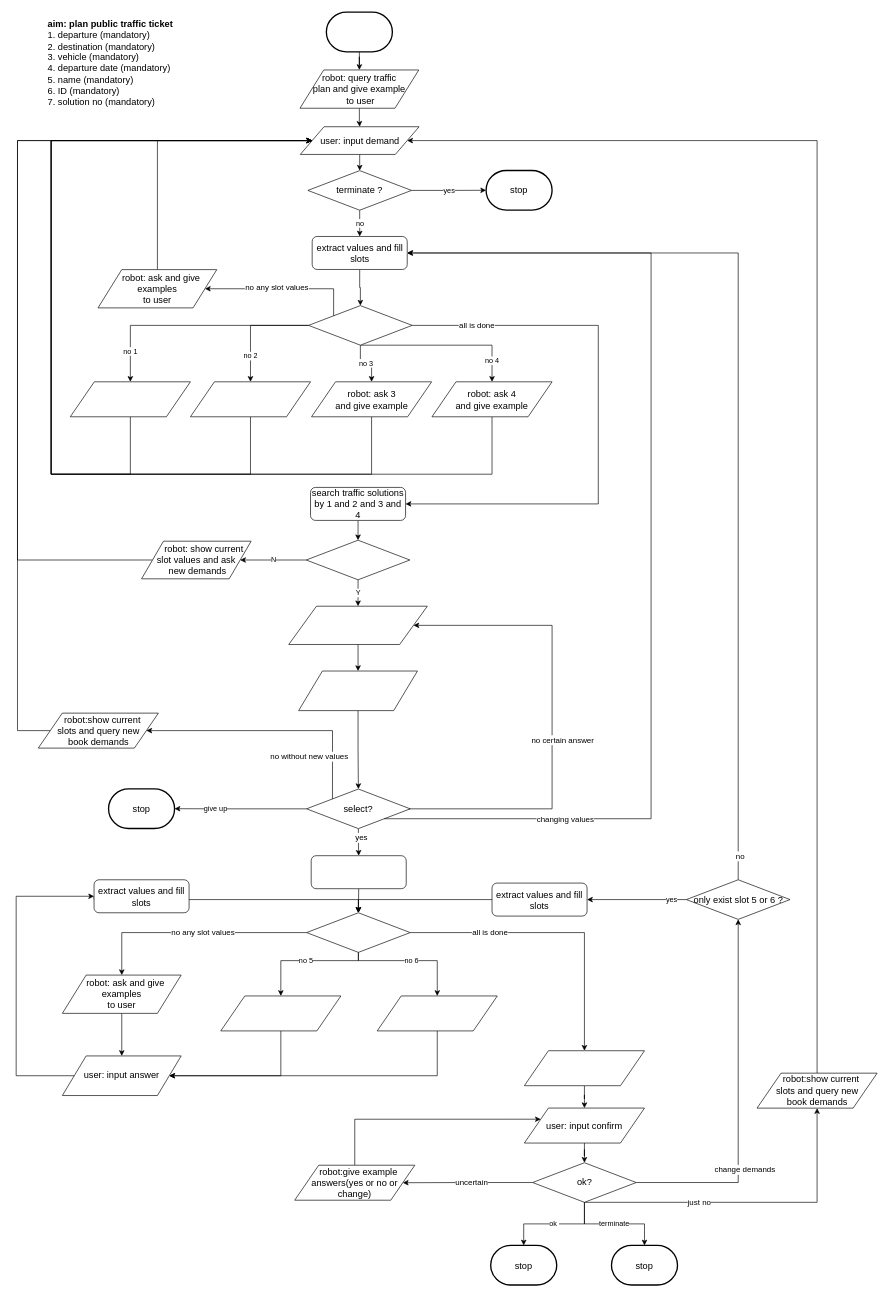
This 889x1297 diagram has some shape labels left out. The box of each missing label's shape, as (x1, y1, x2, y2) in pixels:
fill slot 7: (311, 855, 406, 889)
result ?: (306, 540, 410, 580)
robot: ask 1 and give example: (70, 381, 190, 417)
robot: ask 2 and give example: (190, 381, 311, 417)
robot: ask 5: (220, 995, 341, 1031)
robot: ask 6: (377, 995, 497, 1031)
robot: output info list confirm to select one to book: (288, 606, 427, 644)
robot:output book info and confirm: (524, 1050, 644, 1086)
slot 1, 2, 3, 4?: (308, 305, 412, 345)
slot 5, 6 ?: (306, 912, 410, 952)
start: (325, 11, 393, 52)
user: confirm and select one: (298, 670, 417, 711)
